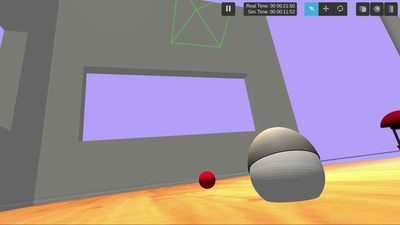mira_robot: (248, 127, 325, 202)
